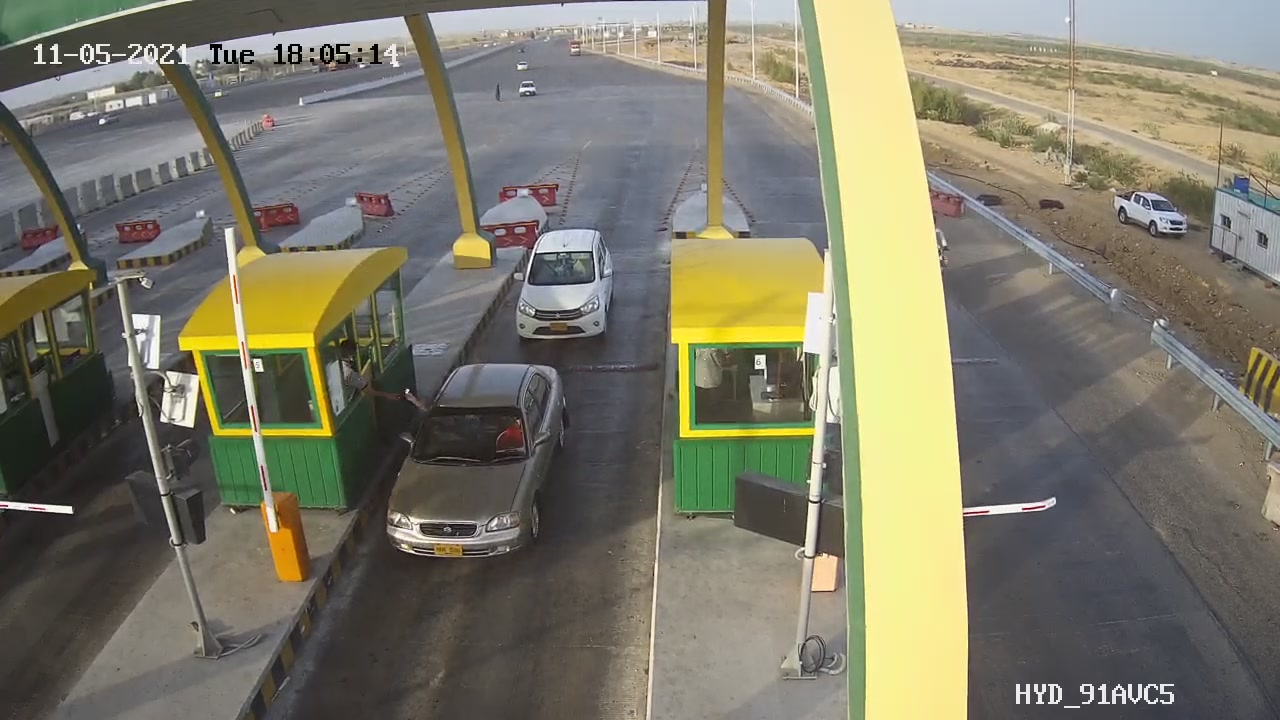F1: (370, 353, 591, 575), (492, 214, 644, 359)
